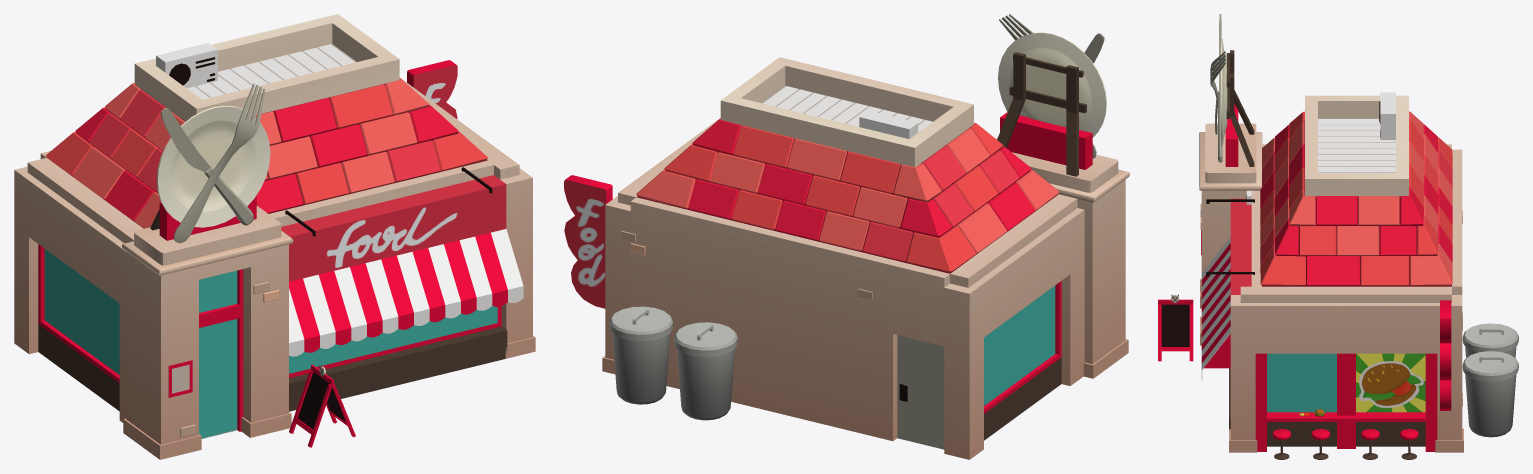
The model's file is Restaurant_lvl1.fbx.
3 renders of one model, left to right at view 1: azimuth 30°, elevation 25°; view 2: azimuth 150°, elevation 25°; view 3: azimuth 270°, elevation 25°, orthographic. The views are drawn at different scales.
Parts seen in each view (by area): view 1: Glass; view 2: Glass; view 3: Glass.
Boxes of the visible parts, bbox=[...] form: Glass: bbox=[14, 14, 535, 459]; Glass: bbox=[564, 14, 1129, 459]; Glass: bbox=[1158, 14, 1518, 459].
Bounding box in the file's own units: 824 × 605 × 694.
4 materials, 4 textured.
